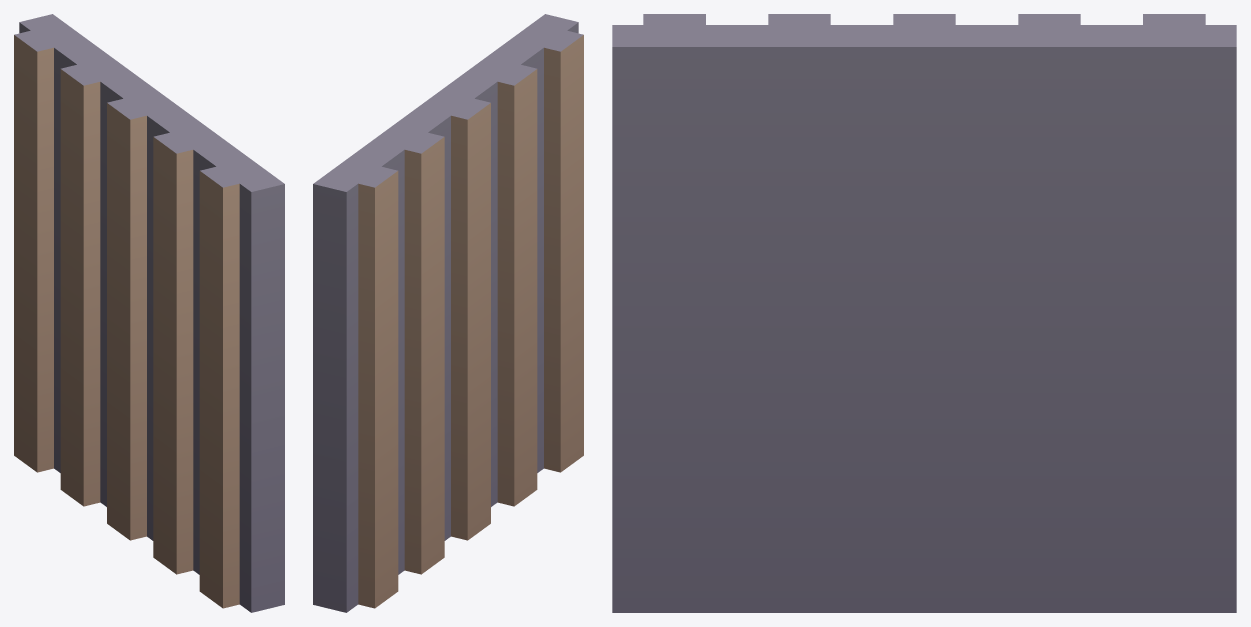
File: wood-panel (%wall).glb
3 views of the same model, side by side, from view 1: azimuth 30°, elevation 25°; view 2: azimuth 150°, elevation 25°; view 3: azimuth 270°, elevation 25° (orthographic). The views are drawn at different scales.
Parts seen in each view (by area): view 1: wood-panel (%wall); view 2: wood-panel (%wall); view 3: wood-panel (%wall).
Part boxes in pixels (box(x1,y1,x2,y2)): wood-panel (%wall): box(14, 14, 284, 612); wood-panel (%wall): box(313, 14, 583, 612); wood-panel (%wall): box(612, 14, 1236, 612).
Size of the model in its own units: 0.075 by 0.6 by 0.6.
